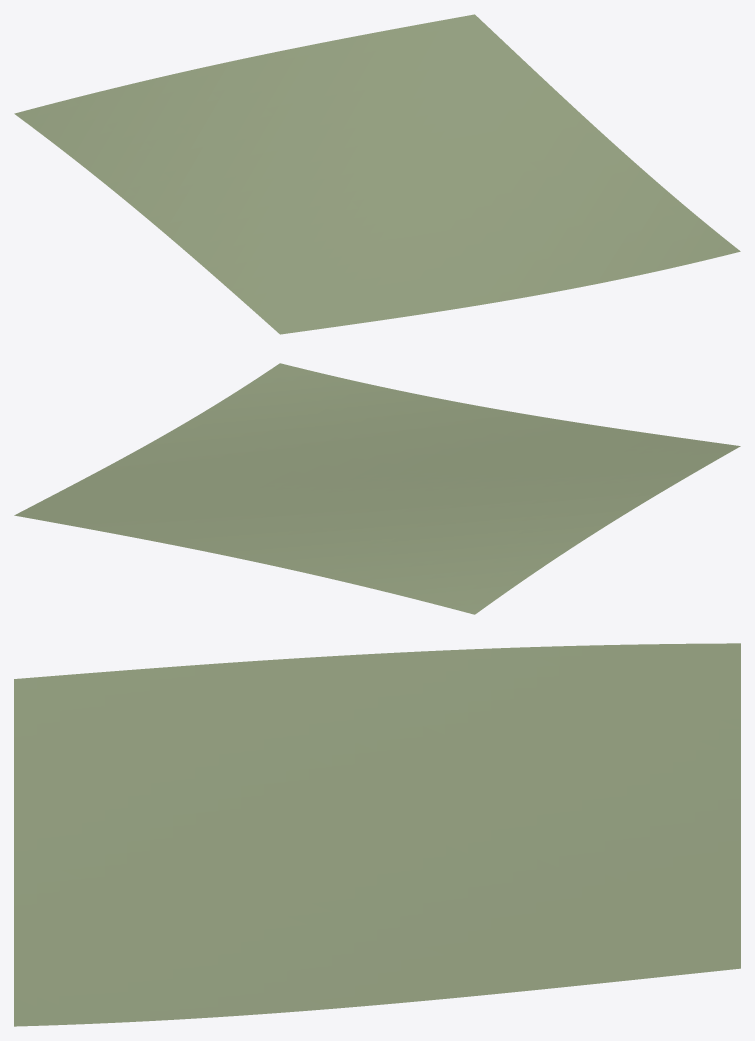
The model's file is alpine-1-13.glb.
3 renders of one model, top to bottom at view 1: azimuth 30°, elevation 25°; view 2: azimuth 150°, elevation 25°; view 3: azimuth 270°, elevation 25°, orthographic. The views are drawn at different scales.
Visible parts, largest first — view 1: alpine-1-13; view 2: alpine-1-13; view 3: alpine-1-13.
Part boxes in pixels (left/top/right/bottom): alpine-1-13: left=14, top=14, right=740, bottom=334; alpine-1-13: left=14, top=363, right=740, bottom=614; alpine-1-13: left=14, top=643, right=740, bottom=1026.
Size of the model in its own units: 256 by 30.12 by 256.
